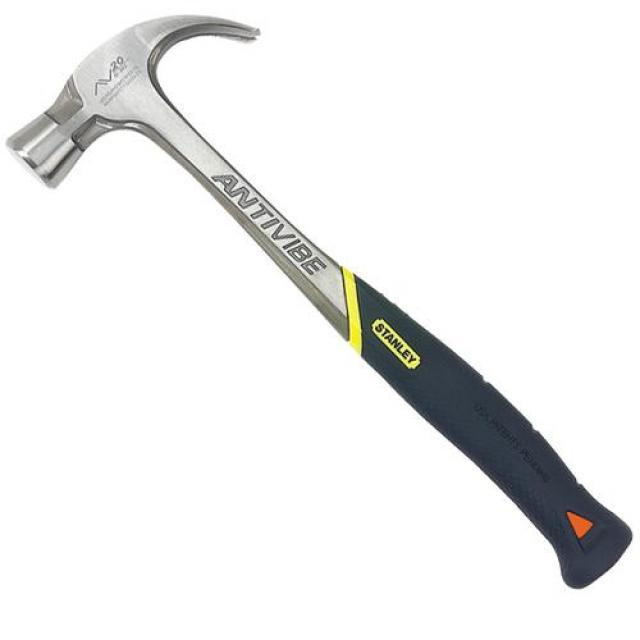hammer: (0, 0, 637, 594)
